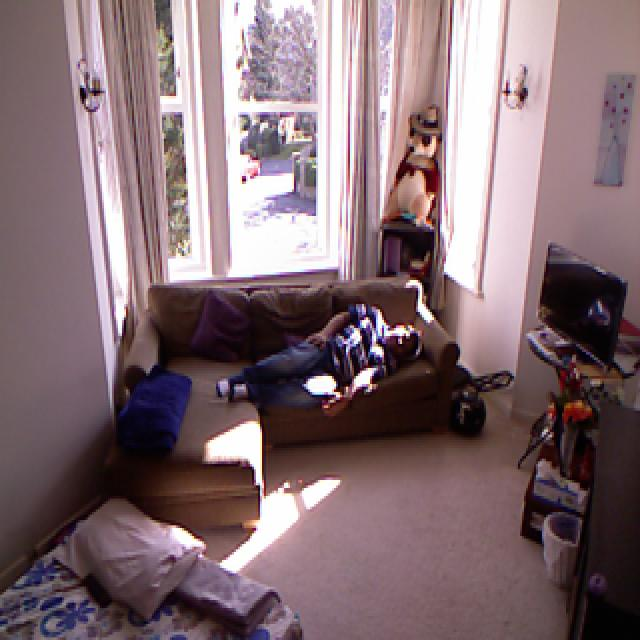lying: (210, 301, 425, 425)
